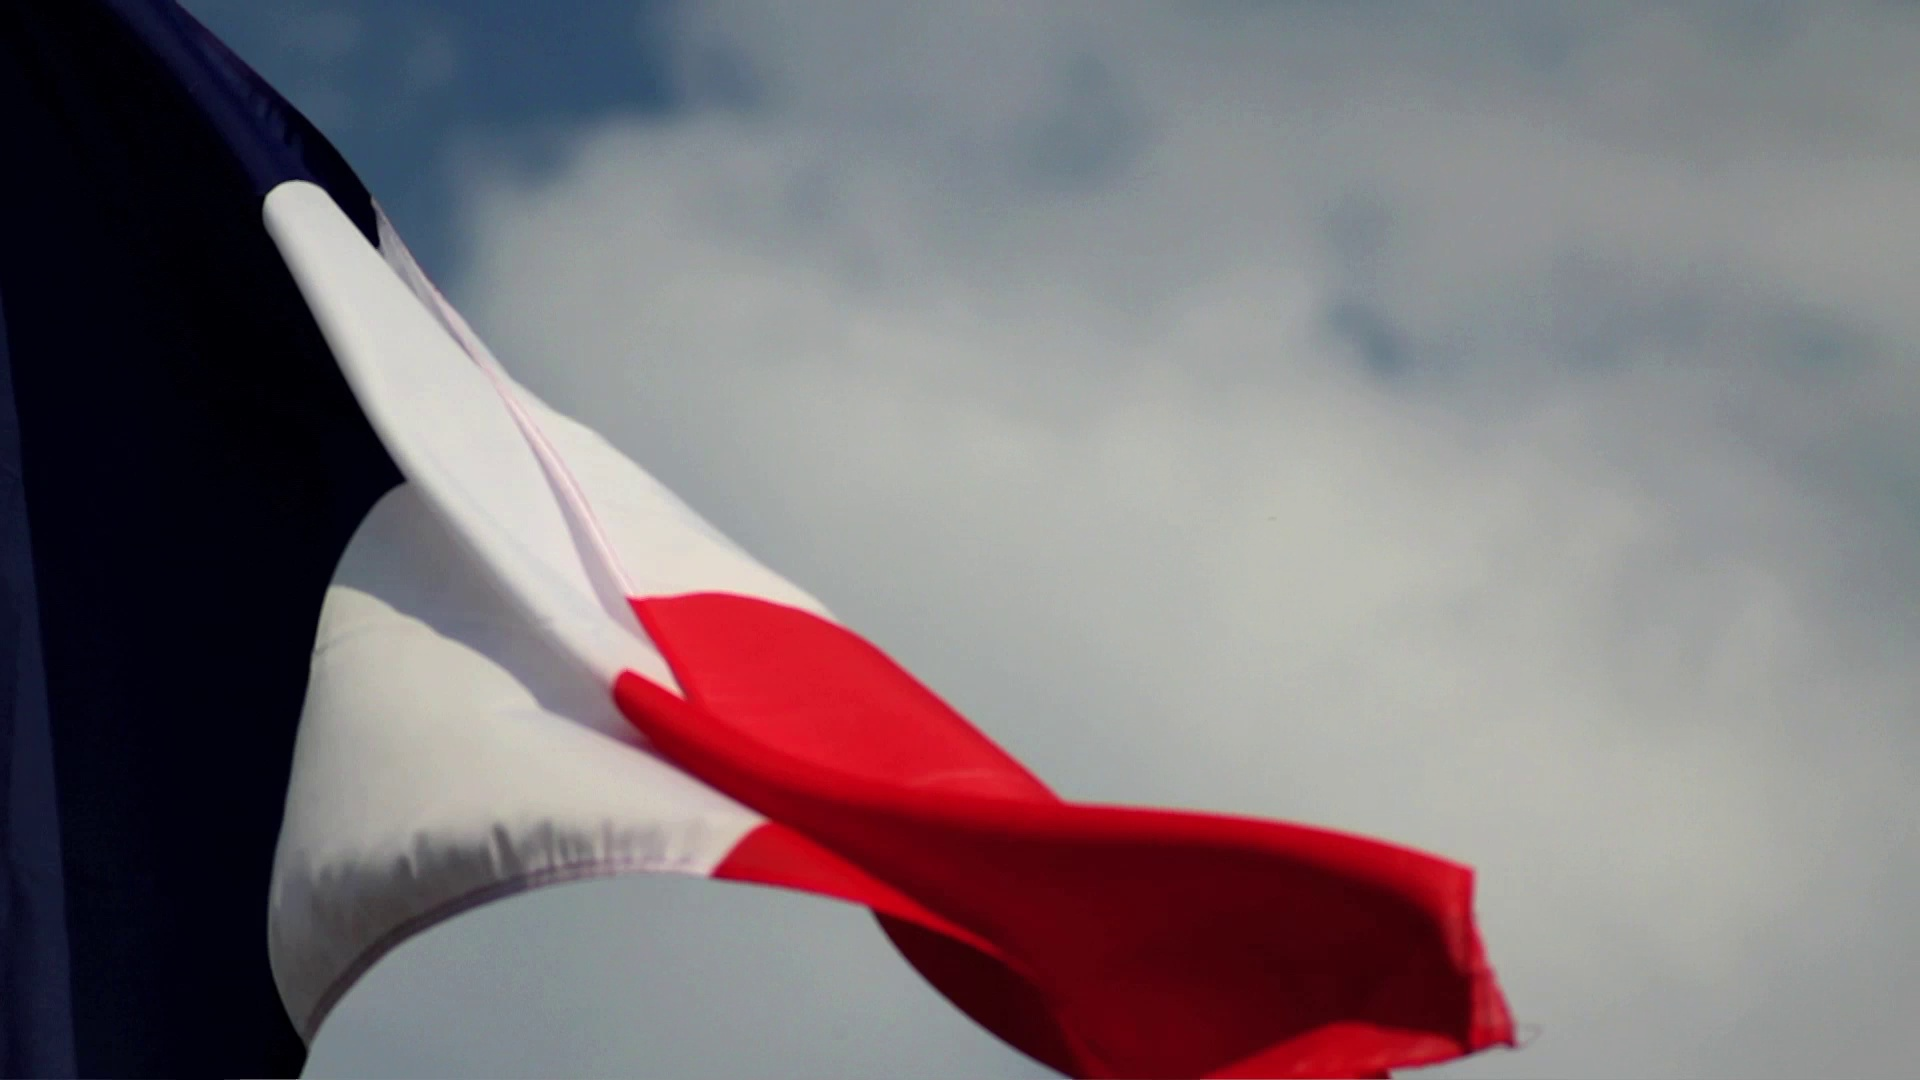French Flag: (7, 1, 1524, 1079)
